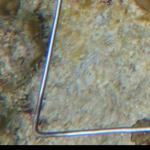dead: (65, 4, 147, 124)
